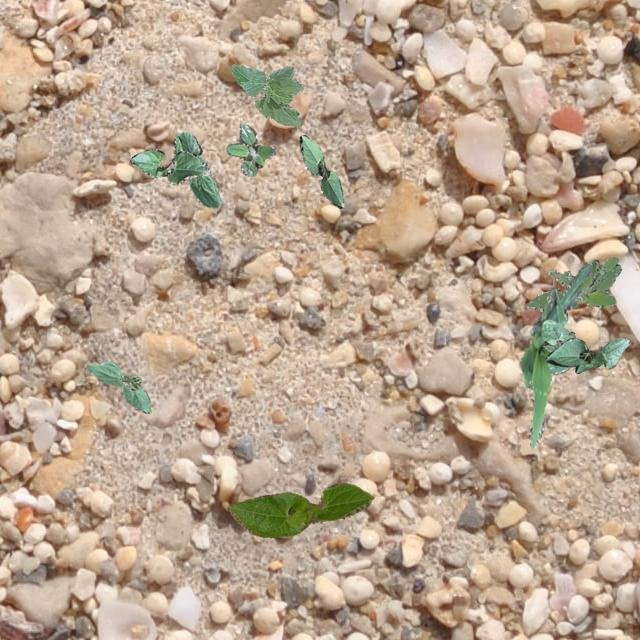crop: (520, 263, 590, 447), (226, 482, 372, 536), (230, 64, 302, 128), (172, 130, 218, 207), (86, 360, 150, 412), (298, 134, 342, 208), (544, 337, 630, 372), (130, 148, 210, 184), (540, 318, 574, 374)
weed: (526, 256, 620, 310), (226, 121, 274, 176)
